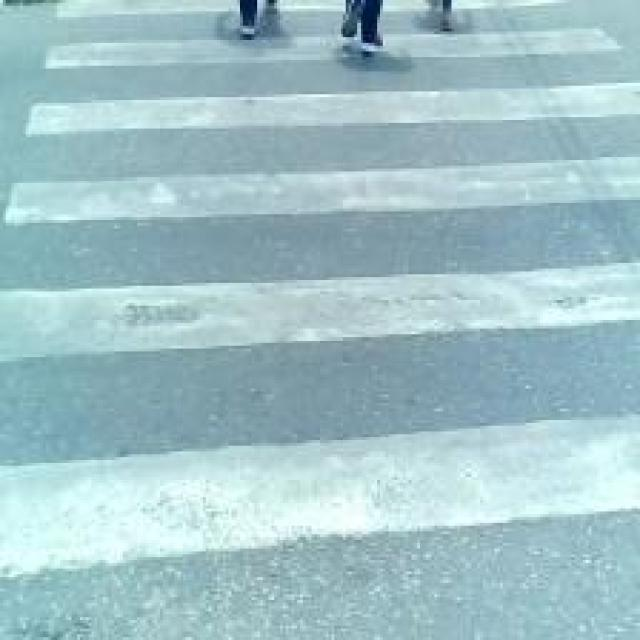walk-crossing: (31, 83, 640, 640)
